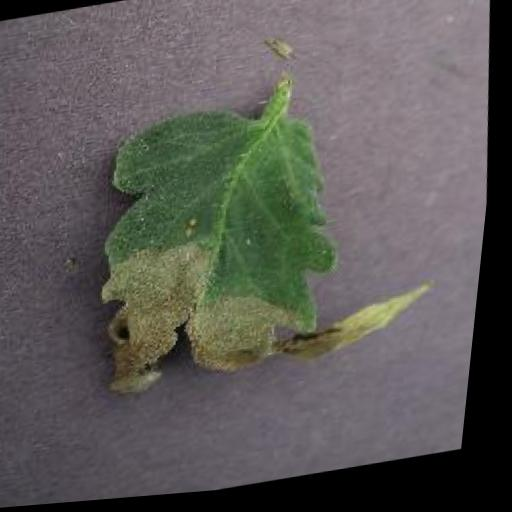Late Blight: (80, 76, 458, 410)
